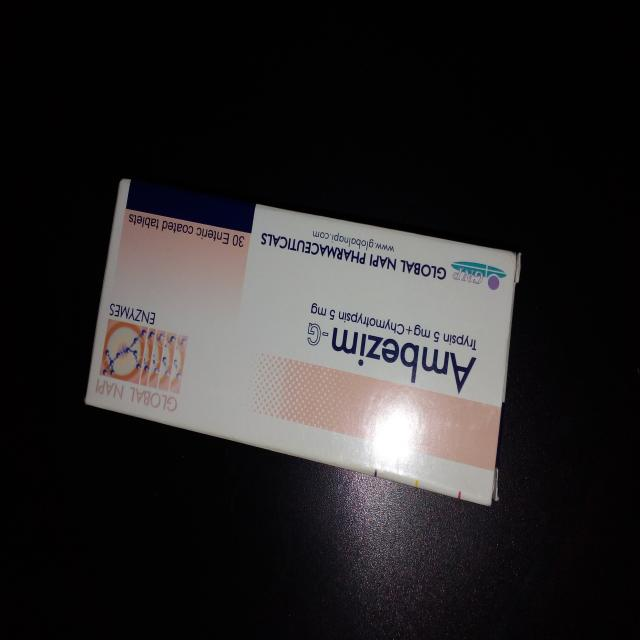Medicine: (84, 174, 524, 511)
